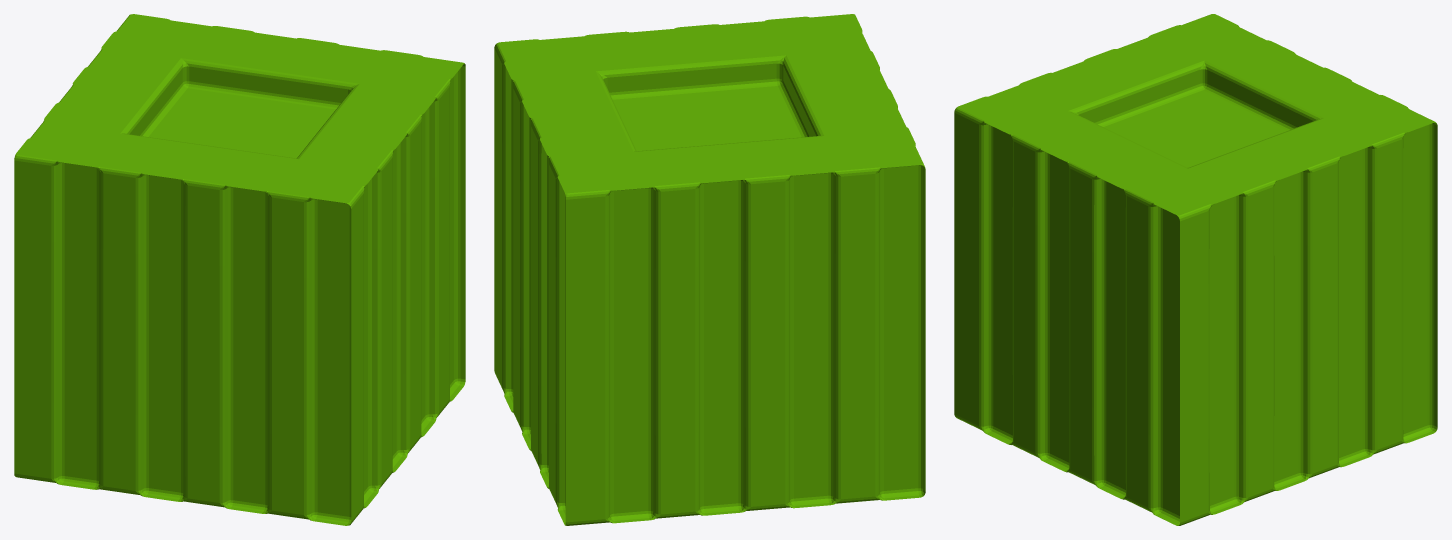
File: Obstacle 1.fbx
The picture shows the model from 3 angles, left to right: view 1: azimuth 30°, elevation 25°; view 2: azimuth 150°, elevation 25°; view 3: azimuth 270°, elevation 25°; orthographic projection. The views are drawn at different scales.
Visible parts, largest first — view 1: Cube.004; view 2: Cube.004; view 3: Cube.004.
Boxes of the visible parts, box(x1,y1,x2,y2) form: Cube.004: box(14, 14, 465, 525); Cube.004: box(494, 14, 925, 525); Cube.004: box(954, 14, 1437, 525).
Size of the model in its own units: 282 by 200 by 282.
